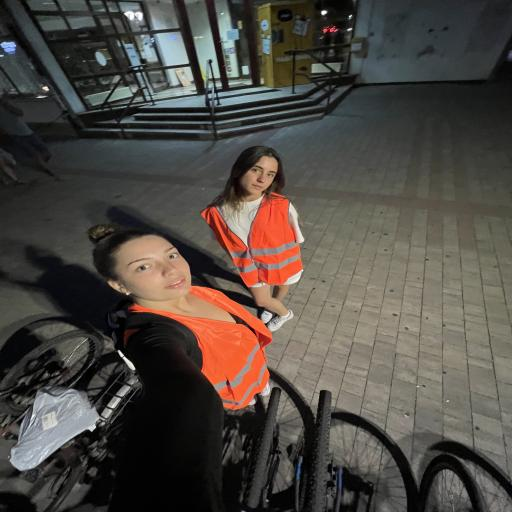masa: (238, 156, 279, 196)
